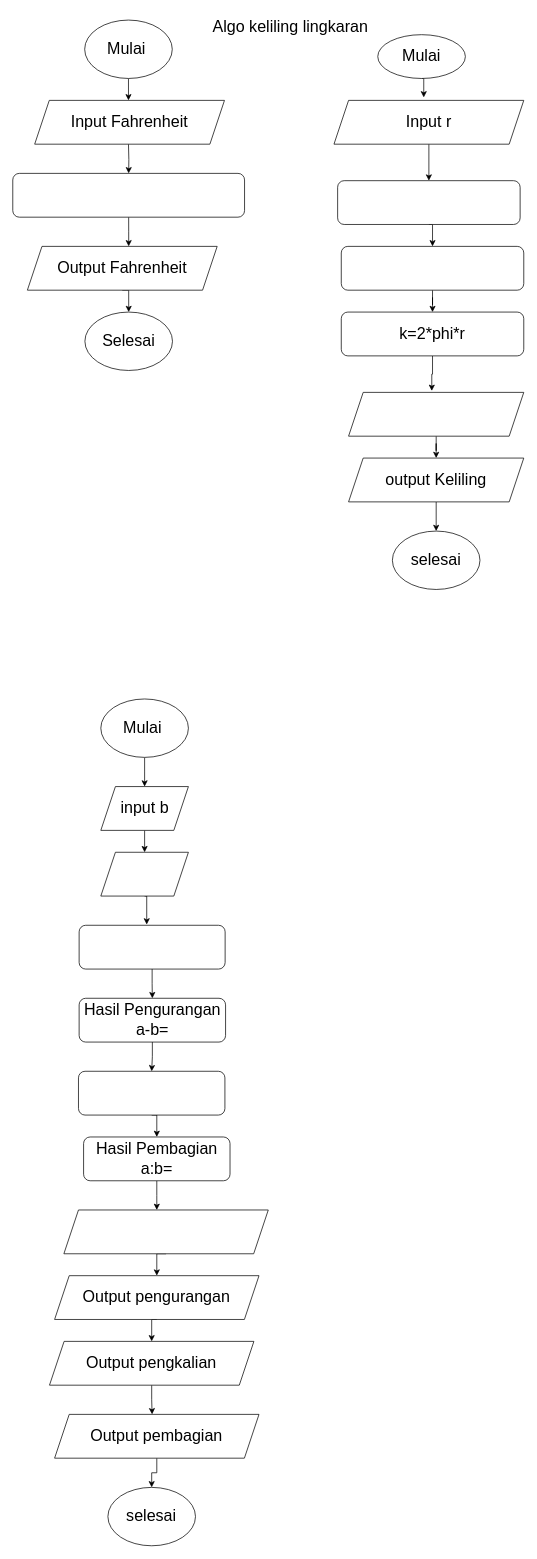
This 537x1559 diagram has some shape labels left out. The centre of each missing label's shape, as x and y in pixels:
Celcius= 5/9*(Fahrenheit -32): pixel 128 195
Hasil Pengkalian a*b=: pixel 151 1093
Hasil Penjumlahan a+b=: pixel 151 947
Input a: pixel 144 874
L=phi*r*r: pixel 432 268
output Luas: pixel 436 414
Output penjumlahan: pixel 165 1231
phi=3,14: pixel 428 202
